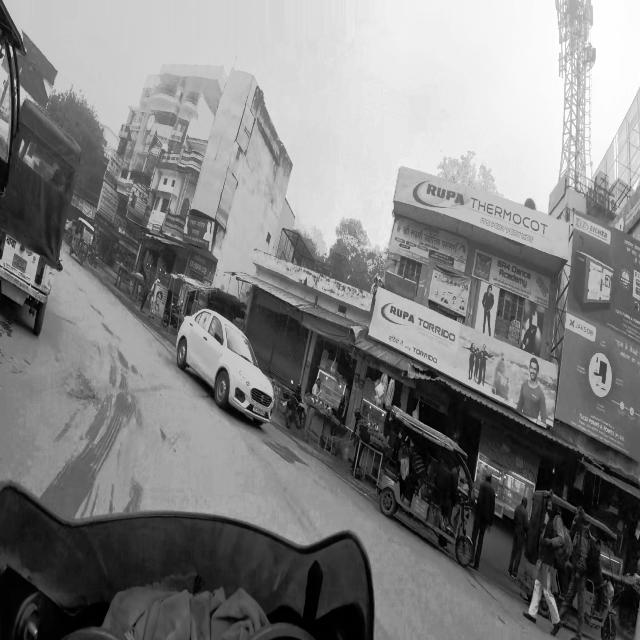Car: (167, 296, 282, 433)
Toto: (368, 401, 484, 583), (12, 91, 77, 363), (521, 494, 620, 636), (72, 217, 95, 267)
